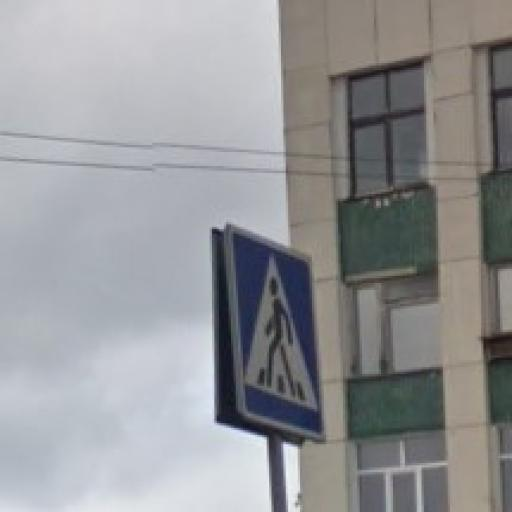traffic_sign: (223, 226, 330, 446)
